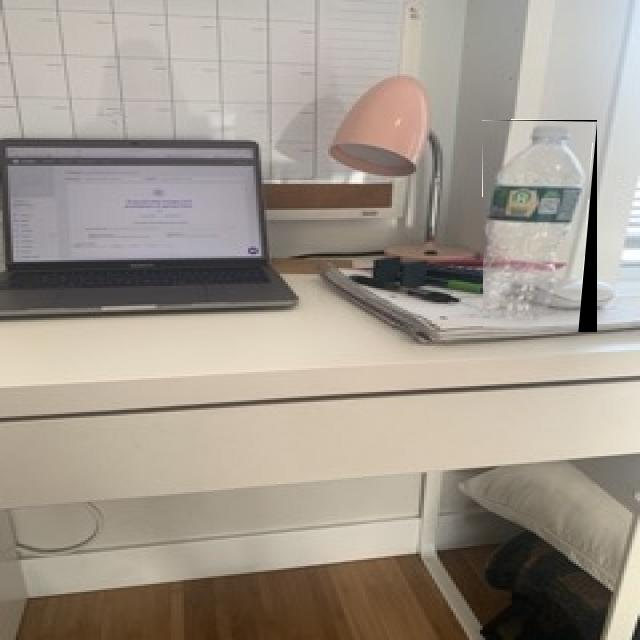water_bottle: (483, 120, 597, 332)
